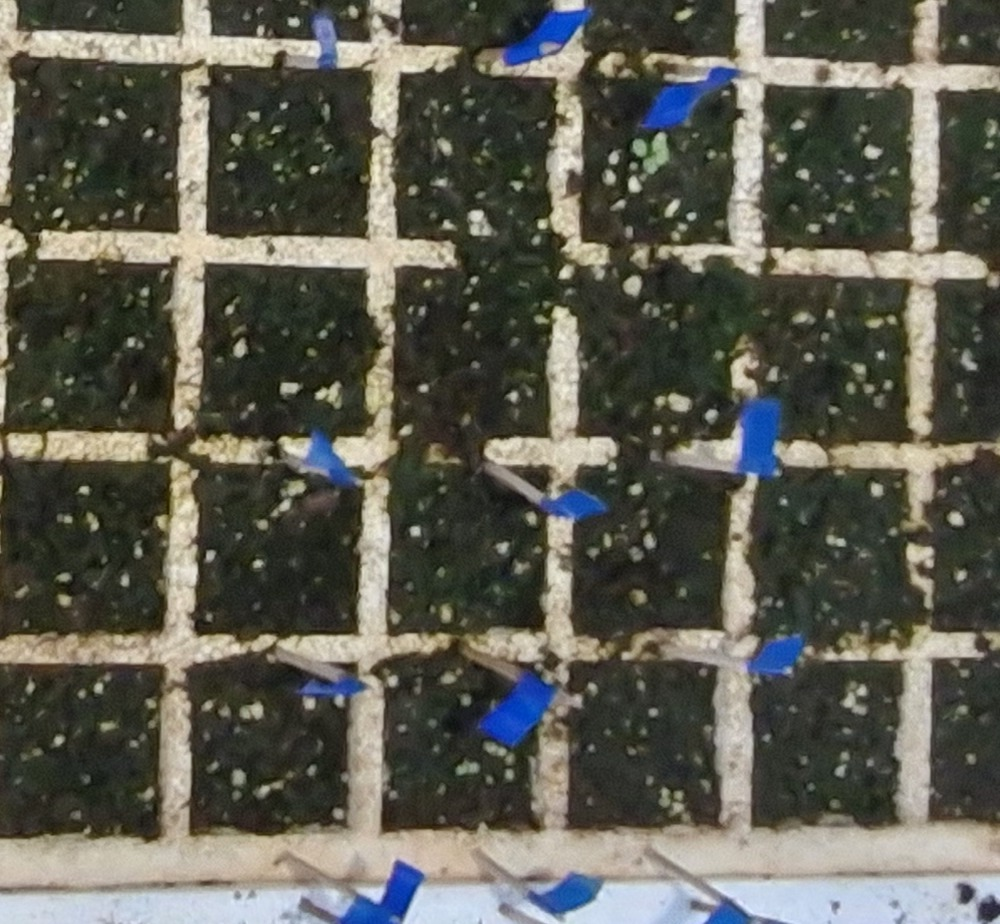Folha: (633, 138, 647, 159), (644, 156, 659, 173), (655, 147, 669, 164), (649, 139, 668, 151)
Germinacao: (631, 137, 668, 174)
